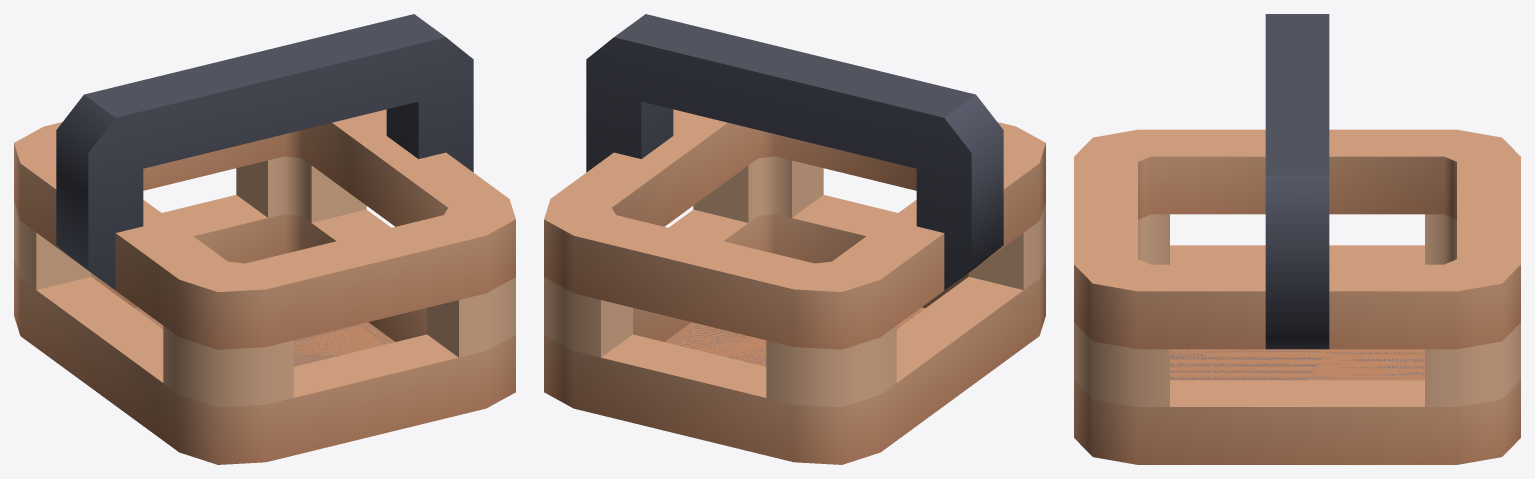
File: shopping-basket.obj
3 renders of one model, left to right at view 1: azimuth 30°, elevation 25°; view 2: azimuth 150°, elevation 25°; view 3: azimuth 270°, elevation 25°, orthographic.
Parts seen in each view (by area): view 1: shopping-basket; view 2: shopping-basket; view 3: shopping-basket.
Part boxes in pixels (x1,y1,x2,y2): shopping-basket: [14, 14, 515, 464]; shopping-basket: [544, 14, 1045, 464]; shopping-basket: [1074, 14, 1520, 464].
Size of the model in its own units: 0.35 by 0.25 by 0.35.
